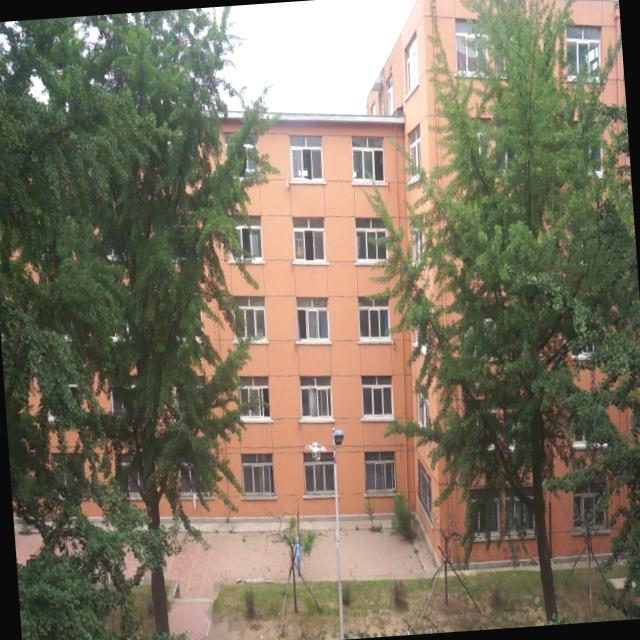drone: (304, 436, 328, 462)
